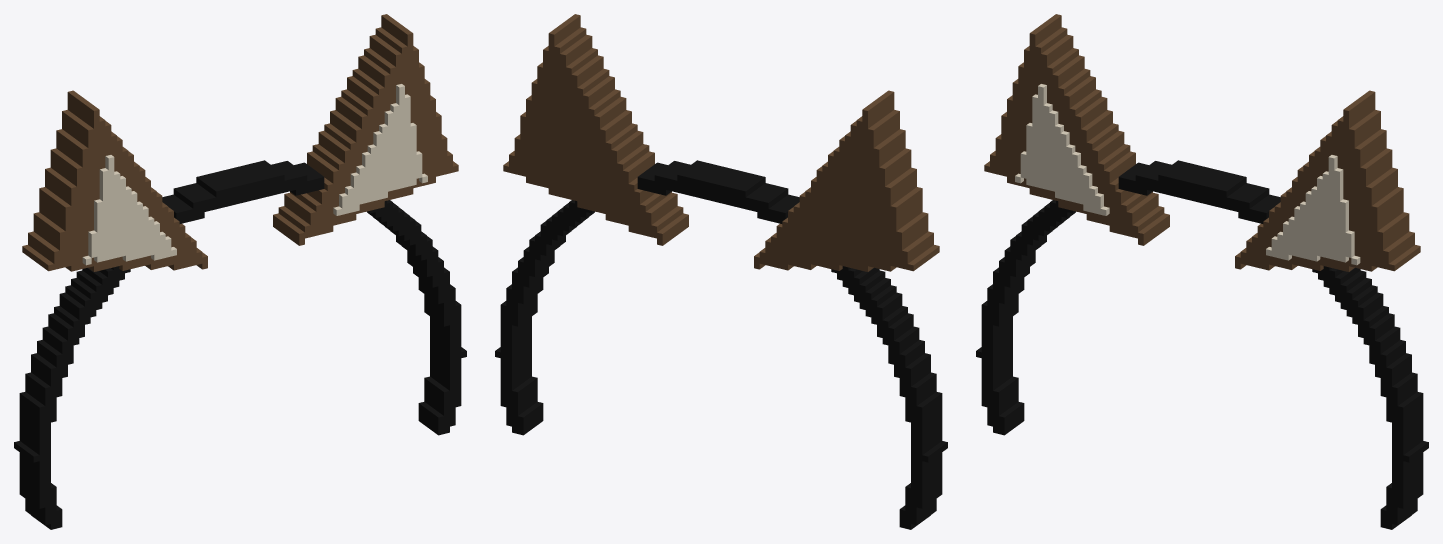
File: fur_cat_ears.glb
3 renders of one model, left to right at view 1: azimuth 30°, elevation 25°; view 2: azimuth 150°, elevation 25°; view 3: azimuth 330°, elevation 25°, orthographic.
Parts seen in each view (by area): view 1: fur_cat_ears:compound; view 2: fur_cat_ears:compound; view 3: fur_cat_ears:compound.
Part boxes in pixels (x1,y1,x2,y2): fur_cat_ears:compound: [14, 14, 466, 529]; fur_cat_ears:compound: [495, 14, 947, 529]; fur_cat_ears:compound: [976, 14, 1428, 529].
Bounding box in the file's own units: 0.152 × 0.138 × 0.018.
